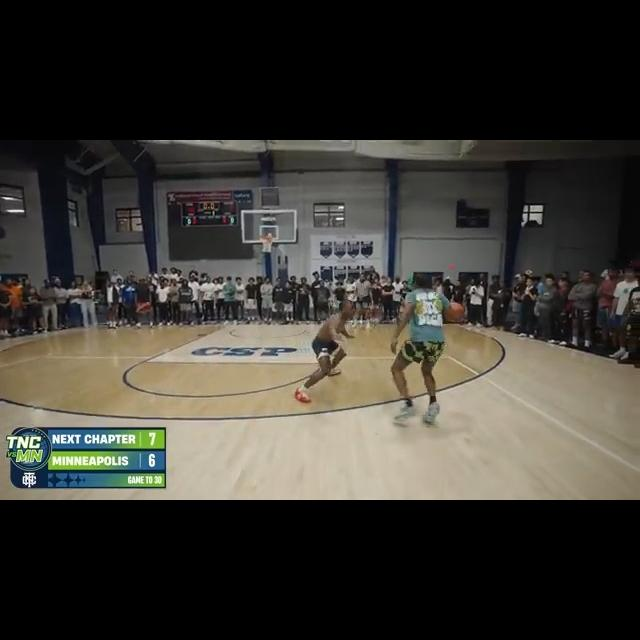basketball: (445, 302, 465, 324)
hoop: (259, 232, 275, 253)
